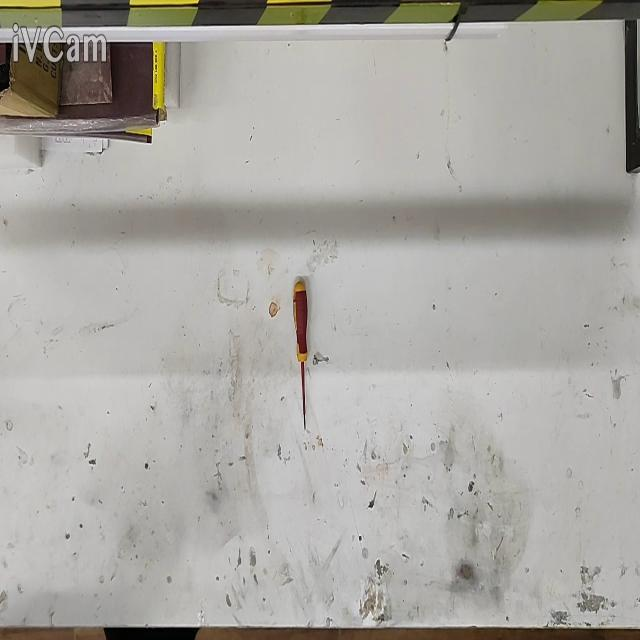Screwdriver: (292, 278, 308, 428)
